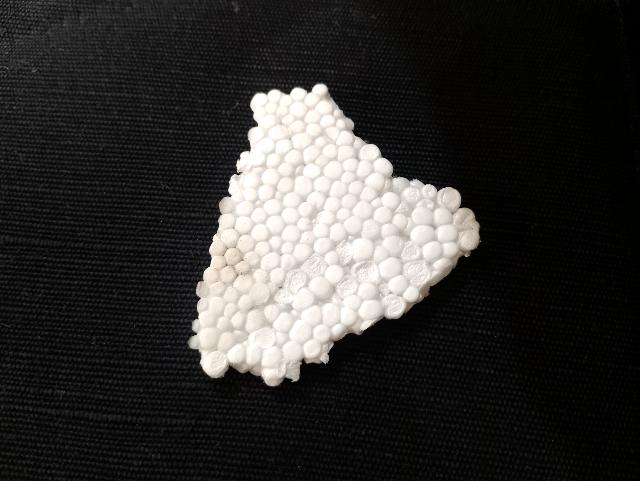cocksheet: (205, 81, 476, 374)
